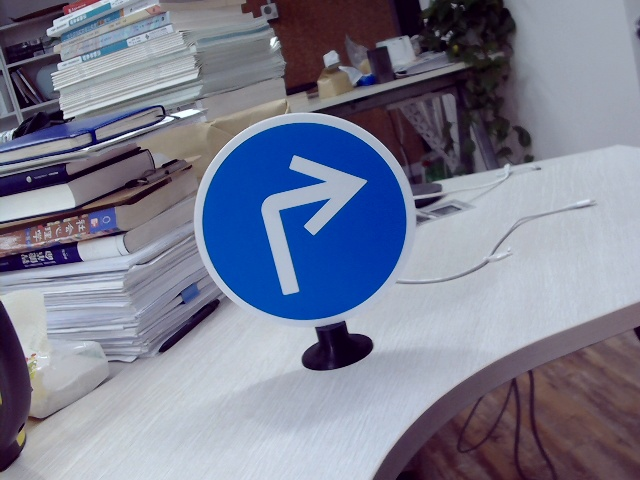turn_right: (255, 158, 370, 297)
